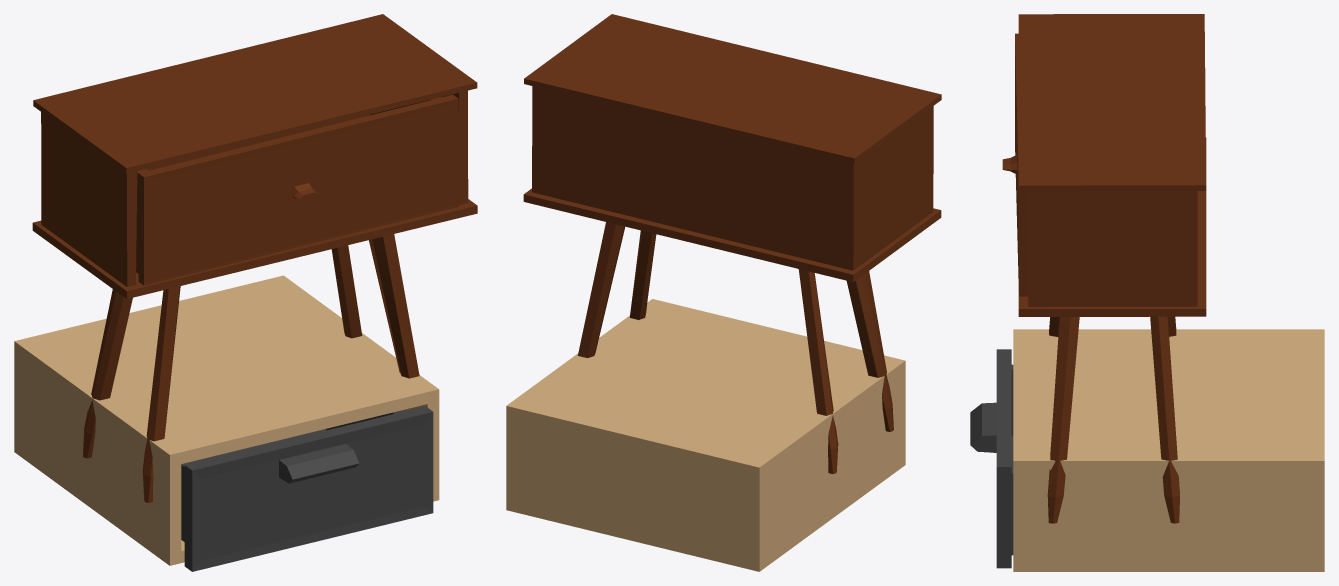
File: MDL_Bedroom_Furniture.fbx
3 views of the same model, side by side, from view 1: azimuth 30°, elevation 25°; view 2: azimuth 150°, elevation 25°; view 3: azimuth 270°, elevation 25° (orthographic). The views are drawn at different scales.
Visible parts, largest first — view 1: MDL_Bedroom_Shelf_01, MDL_Bedroom_Cupboard_01, MDL_Bedroom_Shelf_Drawer_01, MDL_Bedroom_Cupboard_Drawer_01; view 2: MDL_Bedroom_Shelf_01, MDL_Bedroom_Cupboard_01; view 3: MDL_Bedroom_Cupboard_01, MDL_Bedroom_Shelf_01, MDL_Bedroom_Cupboard_Drawer_01, MDL_Bedroom_Shelf_Drawer_01.
Boxes of the visible parts, x1,y1,x2,y2 form: MDL_Bedroom_Shelf_01: (32,14,477,502); MDL_Bedroom_Cupboard_01: (14,275,439,565); MDL_Bedroom_Shelf_Drawer_01: (136,94,458,285); MDL_Bedroom_Cupboard_Drawer_01: (181,406,433,571); MDL_Bedroom_Shelf_01: (523,14,941,473); MDL_Bedroom_Cupboard_01: (506,299,905,571); MDL_Bedroom_Cupboard_01: (1013,329,1324,571); MDL_Bedroom_Shelf_01: (1018,14,1206,523); MDL_Bedroom_Cupboard_Drawer_01: (970,349,1013,568); MDL_Bedroom_Shelf_Drawer_01: (1002,33,1028,296).
Bounding box in the file's own units: 81.78 × 90.95 × 71.34.
